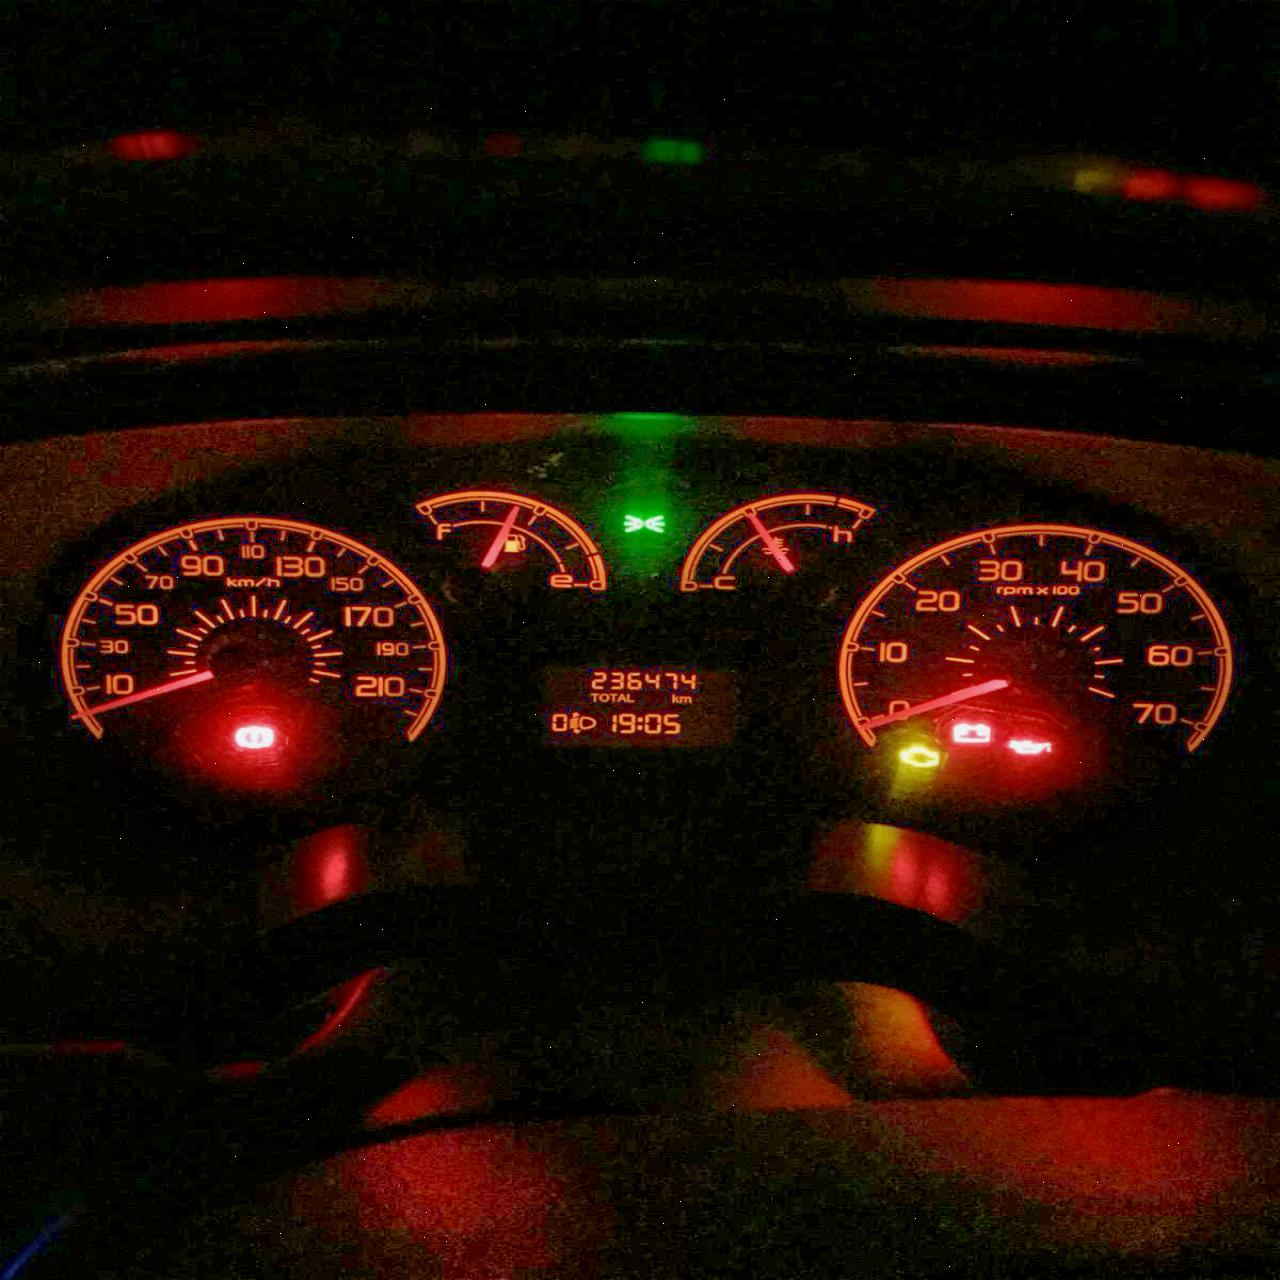0: (642, 712, 662, 734), (551, 712, 567, 731)
1: (610, 713, 617, 734)
2: (588, 668, 606, 689)
3: (610, 670, 624, 689)
4: (680, 673, 697, 689), (645, 673, 660, 689)
5: (663, 712, 681, 734)
6: (627, 672, 642, 690)
7: (663, 670, 679, 689)
9: (619, 712, 634, 734)
X: (679, 695, 692, 703), (598, 693, 608, 702), (608, 693, 617, 702), (590, 693, 598, 702), (626, 693, 634, 702), (670, 693, 679, 702), (636, 715, 641, 731), (617, 693, 625, 701)
odometer: (542, 663, 707, 742)
